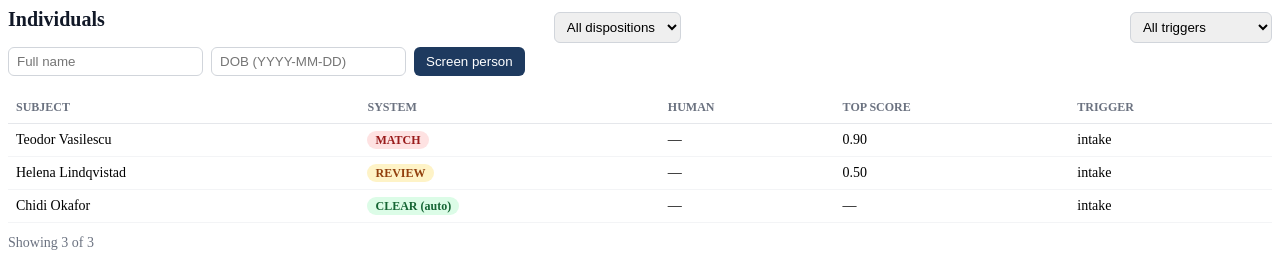
Test: IndividualsQueue › filters by disposition through the API
Expected: the number of rows with test id "screening-row" is 3, x1=8 y1=124 x2=1272 y2=156; x1=8 y1=156 x2=1272 y2=190; x1=8 y1=190 x2=1272 y2=222
Select "REVIEW" in the dropdown with test id "filter-disposition" at (617, 28), box x1=554 y1=12 x2=681 y2=43
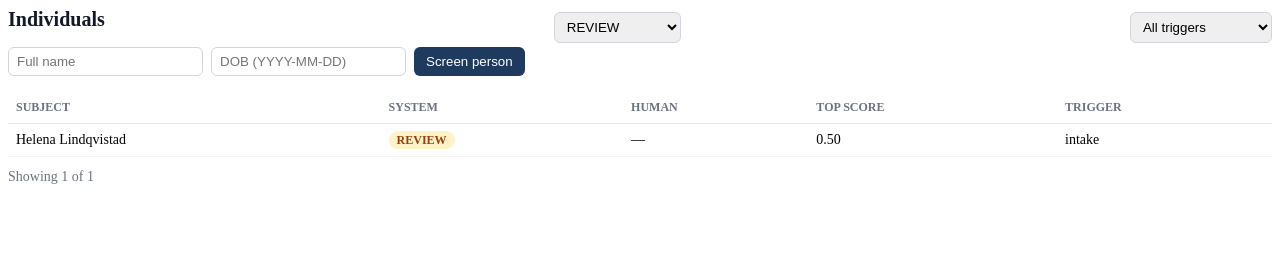
Now the number of rows with test id "screening-row" is 1, box x1=8 y1=124 x2=1272 y2=156
